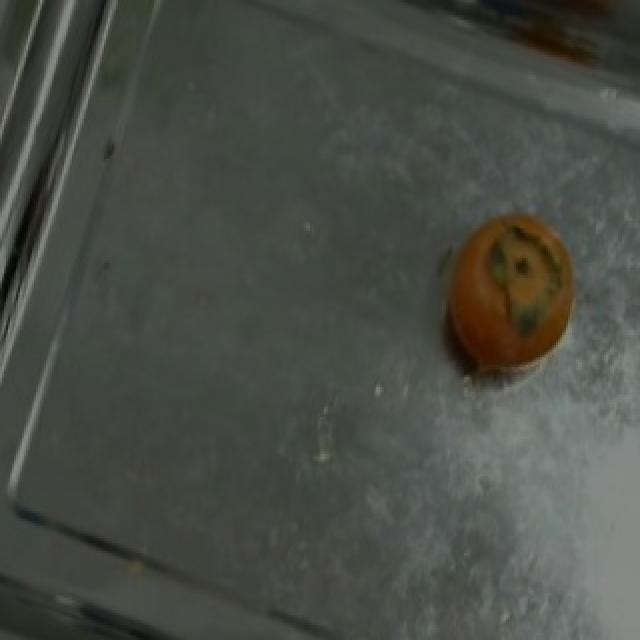Fruit: (420, 193, 600, 397)
